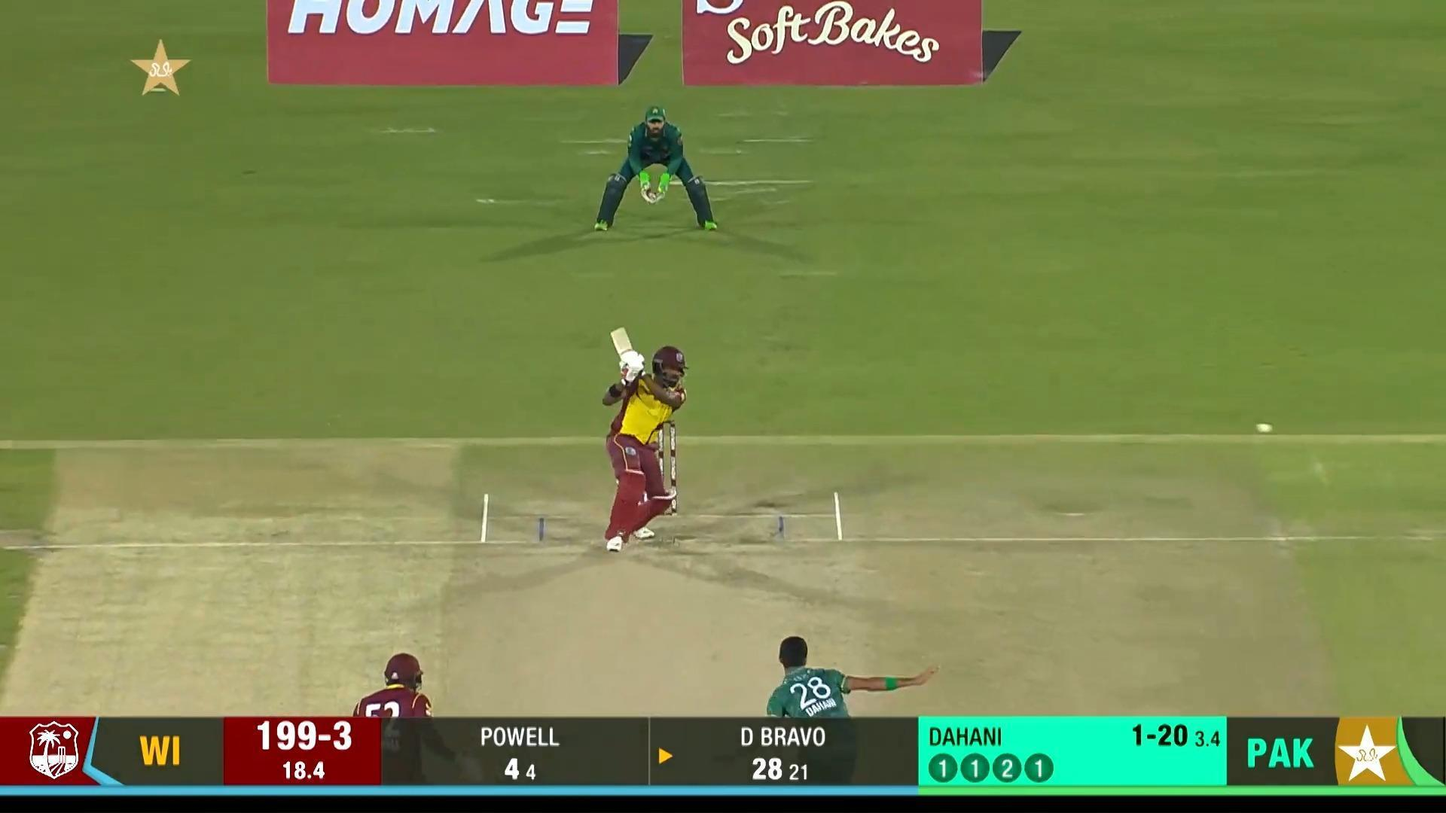BM 1: (602, 325, 691, 553)
BO: (767, 636, 939, 718)
